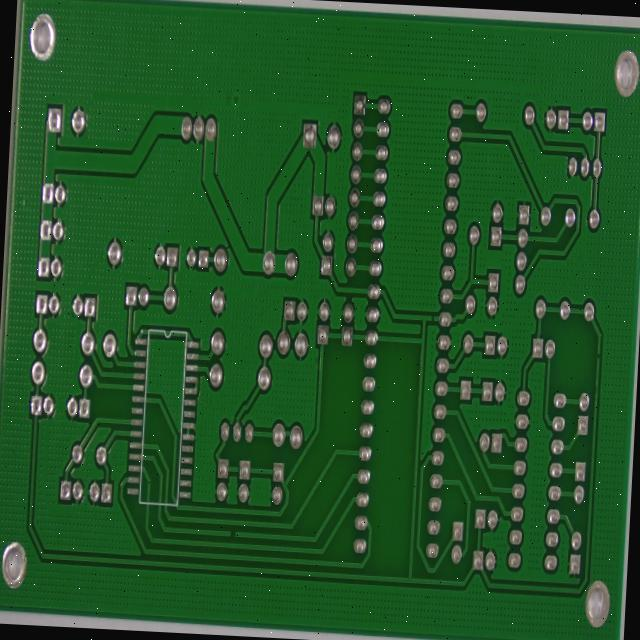open_circuit: (448, 380, 456, 395), (624, 424, 630, 442)
